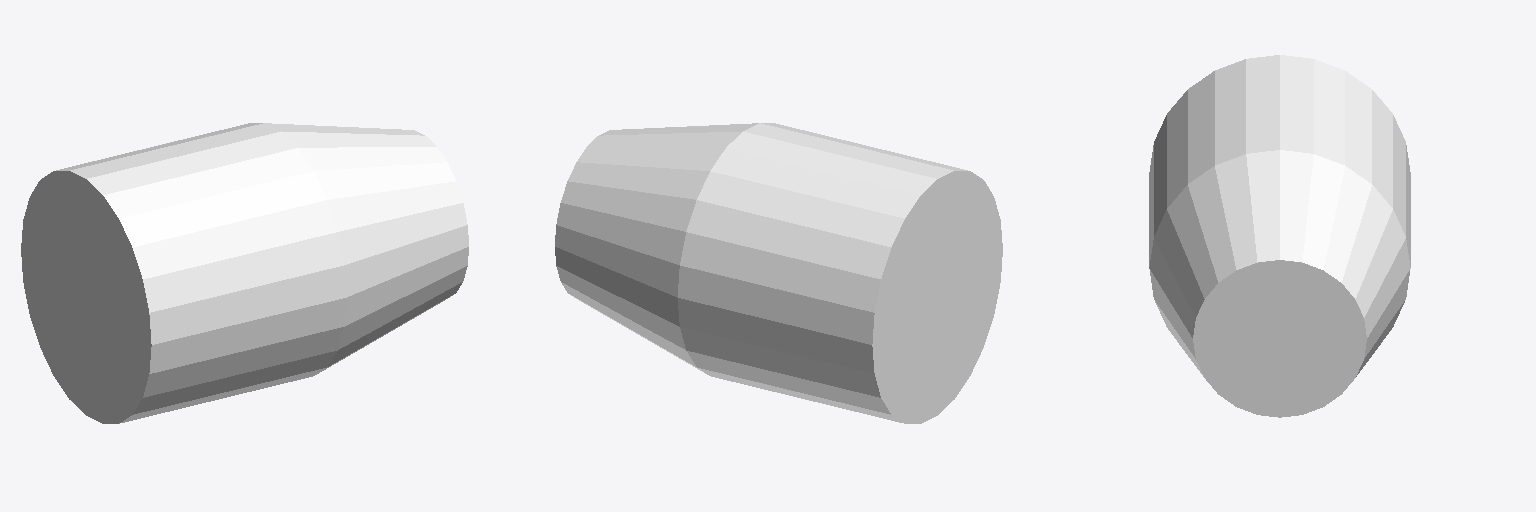
The model's file is Dragon_Bus.obj.
3 views of the same model, side by side, from view 1: azimuth 30°, elevation 25°; view 2: azimuth 150°, elevation 25°; view 3: azimuth 270°, elevation 25° (orthographic).
Parts seen in each view (by area): view 1: cylinder1; view 2: cylinder1; view 3: cylinder1.
Part boxes in pixels (x1,y1,x2,y2): cylinder1: (21,123,468,423); cylinder1: (555,123,1002,423); cylinder1: (1149,55,1410,417).
Bounding box in the file's own units: 5.4 × 3.6 × 3.6.